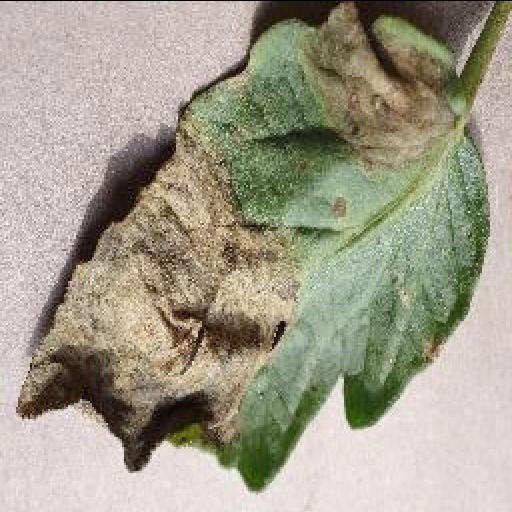disease_tomato: (12, 0, 490, 492)
